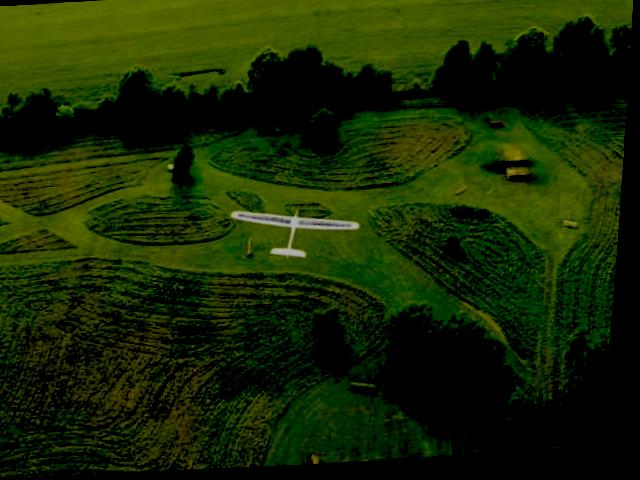uav: (225, 199, 372, 271)
